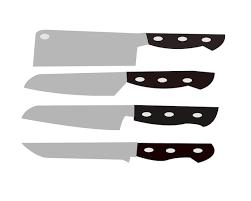Knife: (32, 29, 225, 66), (21, 104, 218, 130), (23, 70, 215, 96), (21, 141, 214, 162)
